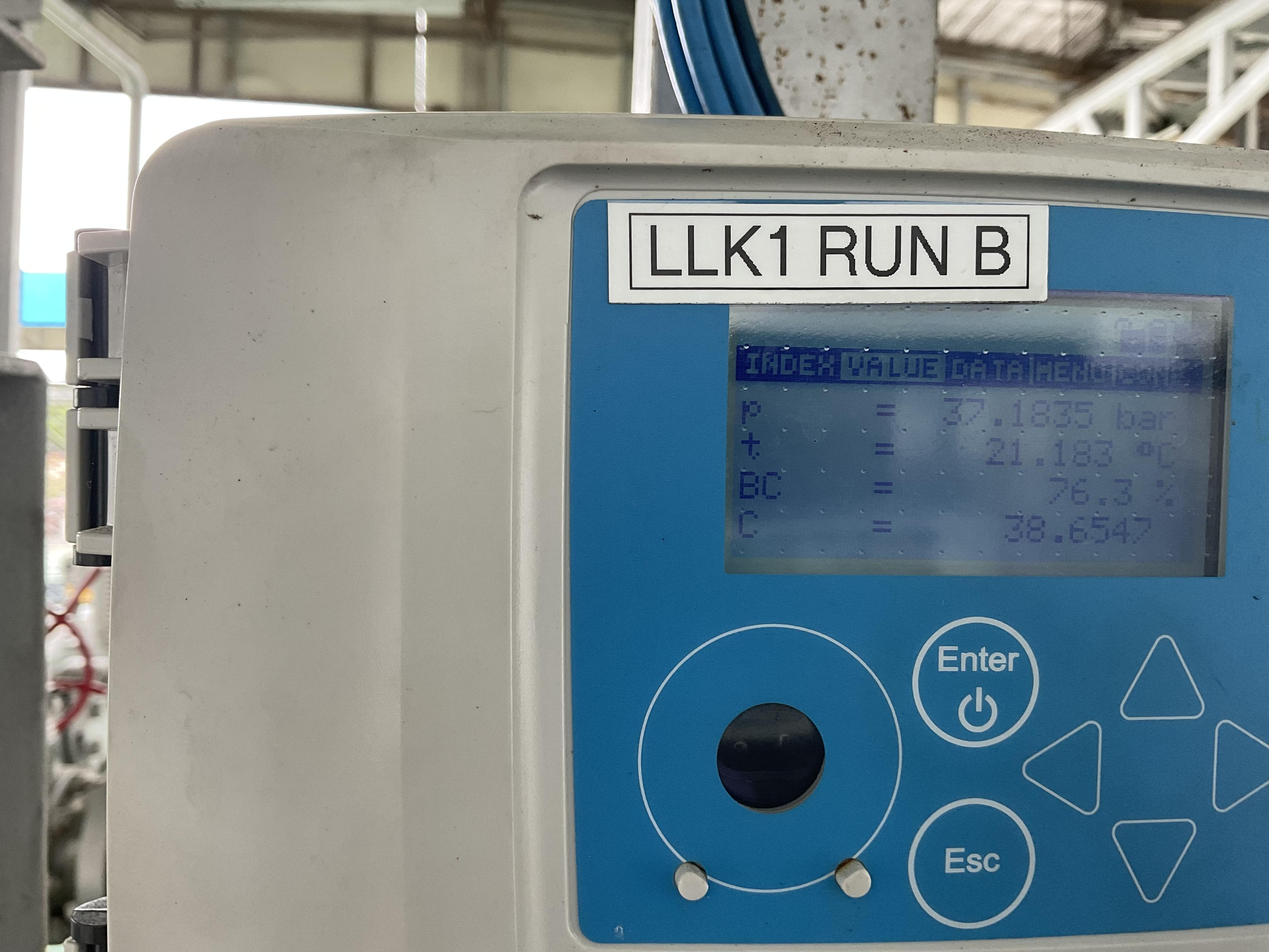digital_screen: (724, 285, 1231, 580)
